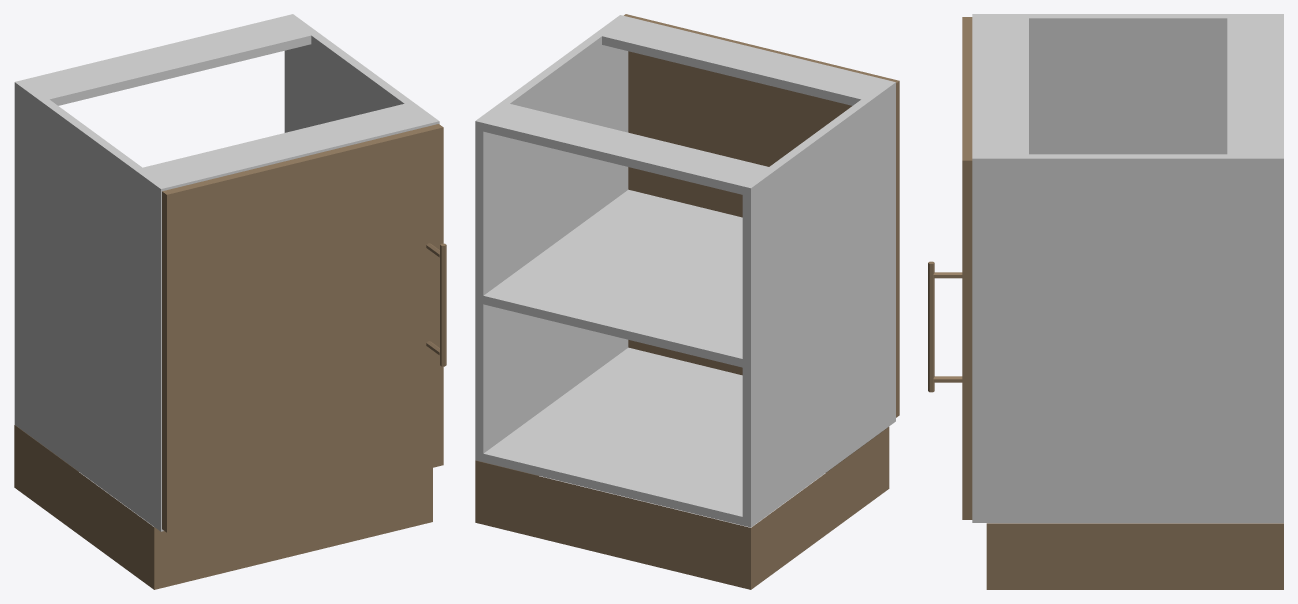
The picture shows the model from 3 angles, left to right: view 1: azimuth 30°, elevation 25°; view 2: azimuth 150°, elevation 25°; view 3: azimuth 270°, elevation 25°; orthographic projection. The views are drawn at different scales.
Parts seen in each view (by area): view 1: user-library-base; view 2: user-library-base; view 3: user-library-base.
Part boxes in pixels (bbox=[...]): user-library-base: bbox=[14, 14, 446, 589]; user-library-base: bbox=[475, 14, 899, 589]; user-library-base: bbox=[928, 14, 1283, 589].
Bounding box in the file's own units: 0.7185 × 1 × 0.7478.
